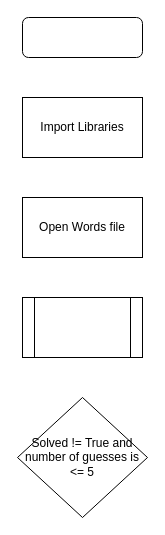
Image size: 165x535. Some labels were removed from this diagram. Each missing label, with the centre of its shape:
Pick random word: point (82, 327)
start: point (82, 37)
